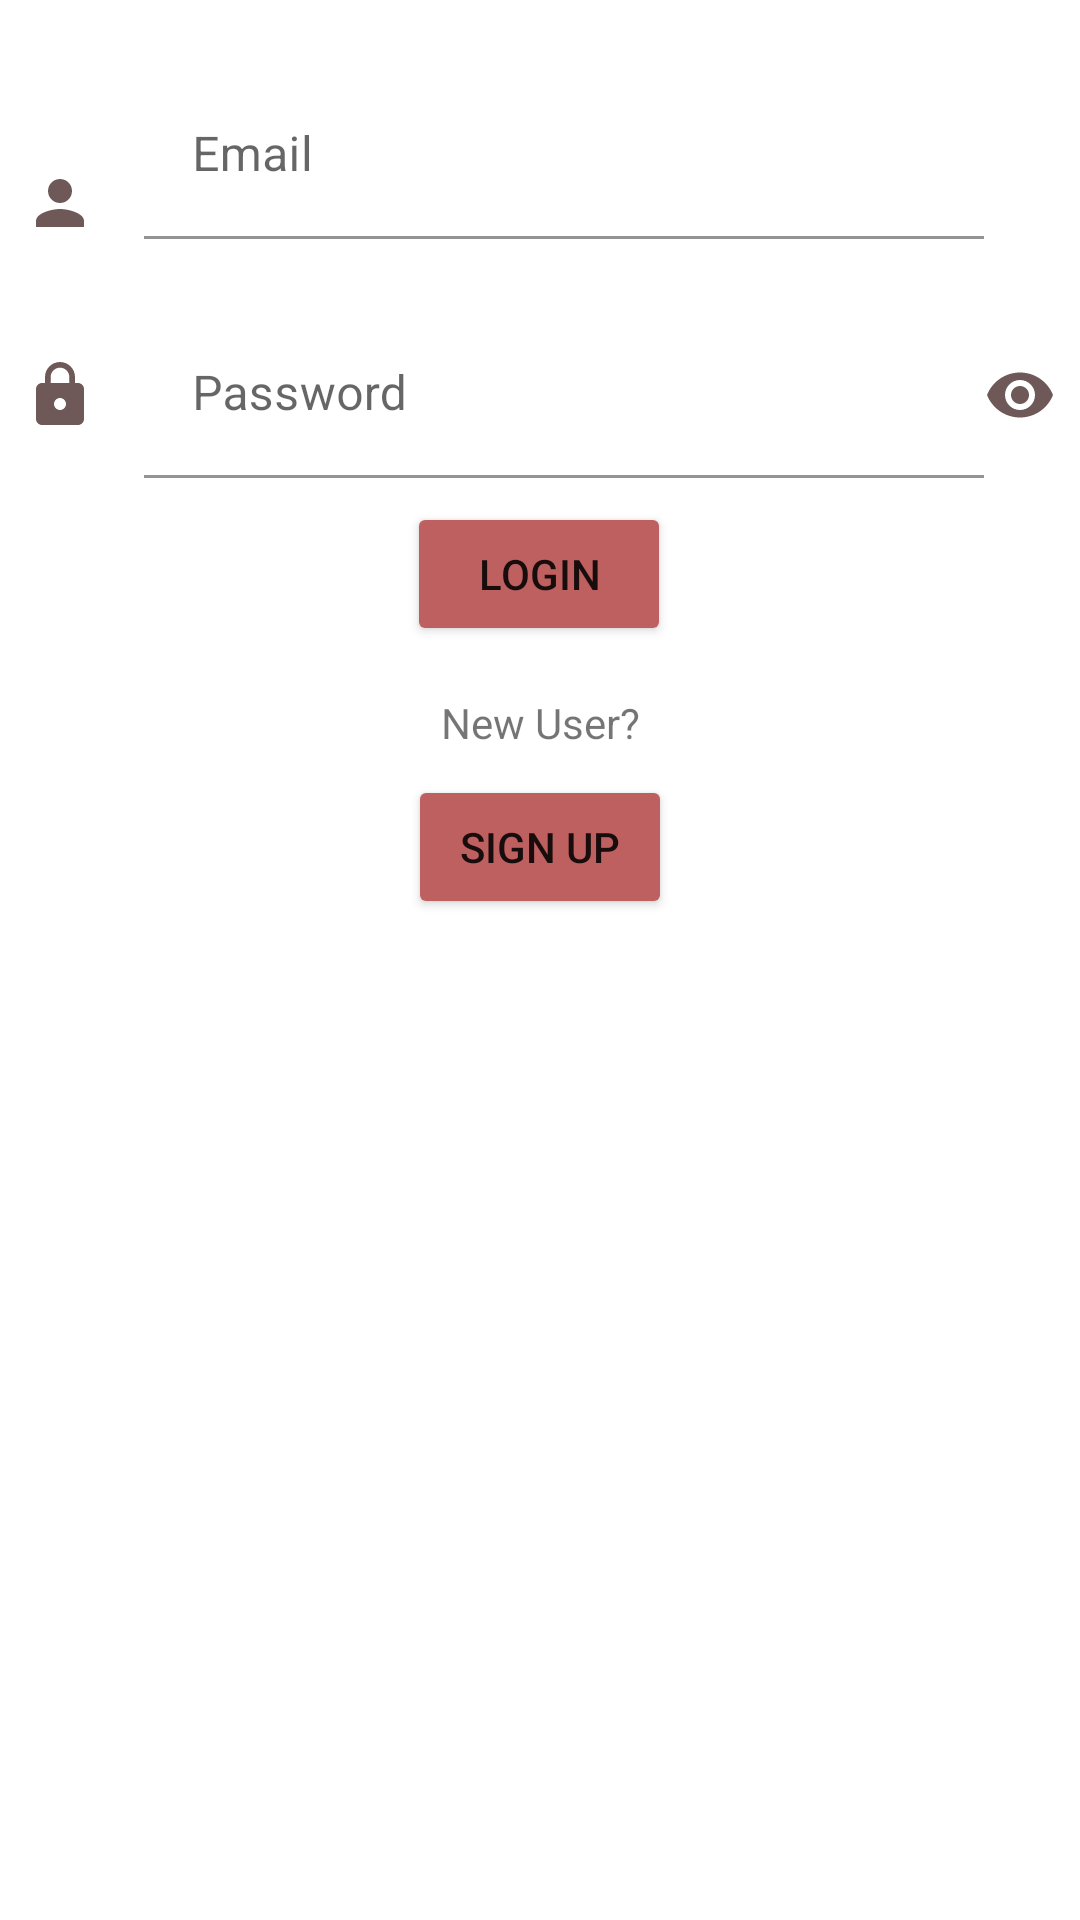

Icons on this 1080x1920 Android screen, each with its box as (x1, y1, x2, y2):
lock: (36, 362, 84, 425)
person: (36, 179, 84, 227)
